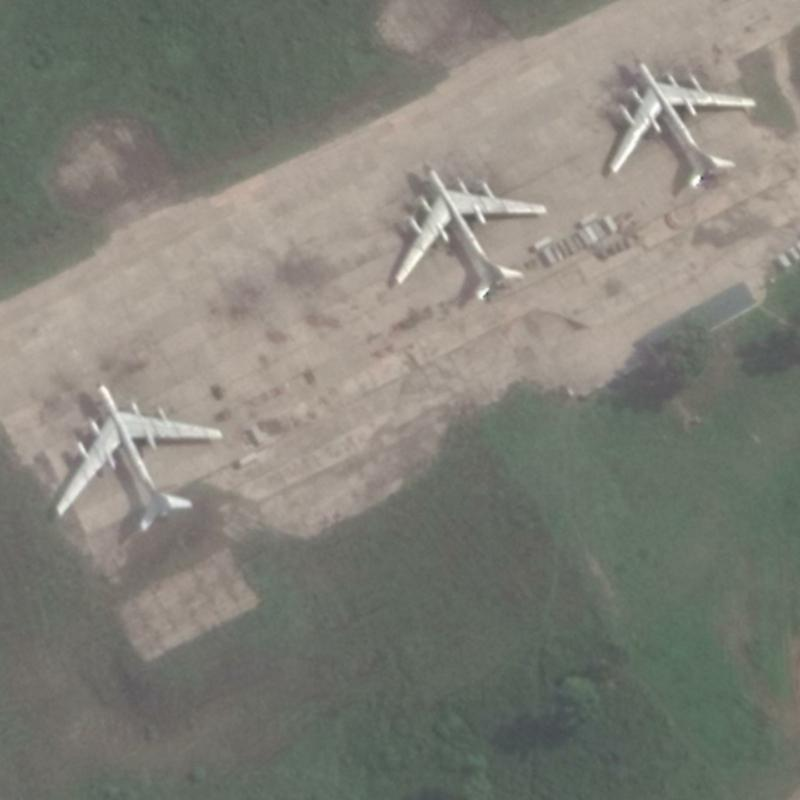A17: (52, 380, 224, 535), (391, 162, 549, 302), (605, 56, 759, 190)
